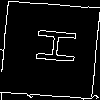H: (25, 24, 77, 66)
